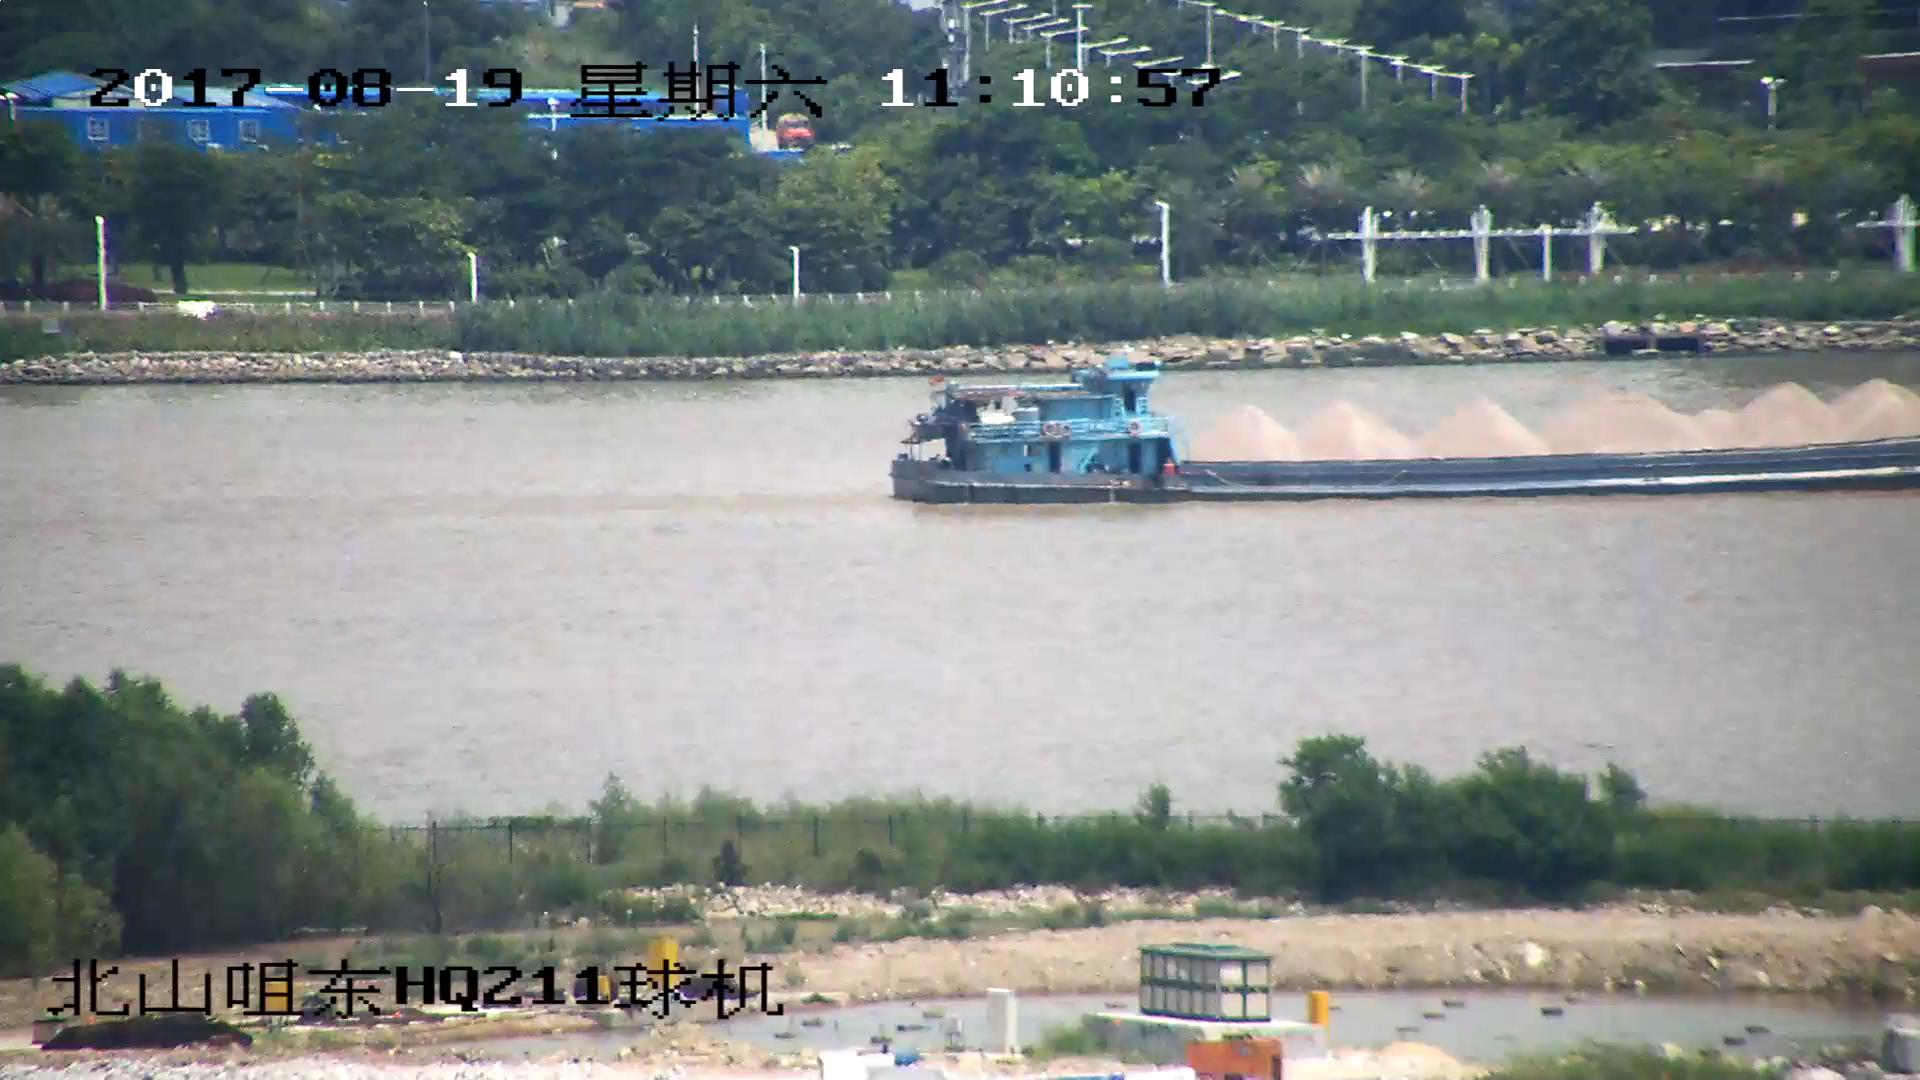ore carrier: (889, 360, 1920, 505)
